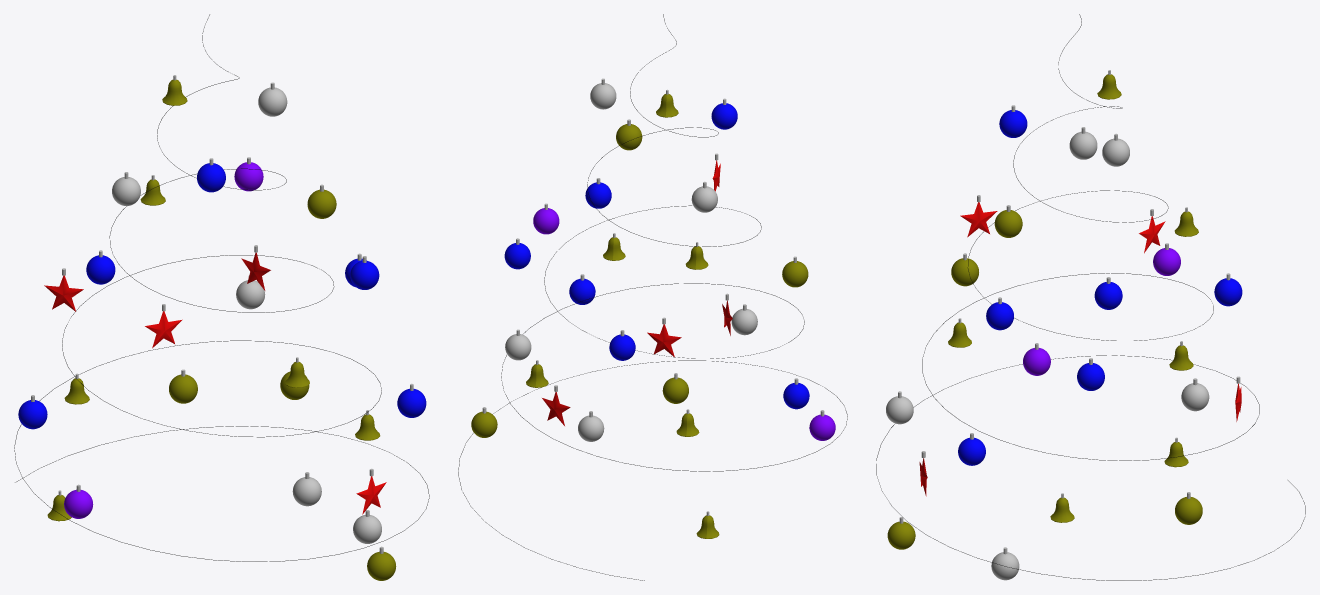
File: Ukrasheniya Elka_01.FBX
3 views of the same model, side by side, from view 1: azimuth 30°, elevation 25°; view 2: azimuth 150°, elevation 25°; view 3: azimuth 270°, elevation 25° (orthographic). The views are drawn at different scales.
Parts seen in each view (by area): view 1: Ukrasheniya Elka; view 2: Ukrasheniya Elka; view 3: Ukrasheniya Elka.
Boxes of the visible parts, x1,y1,x2,y2 form: Ukrasheniya Elka: (14, 14, 429, 580); Ukrasheniya Elka: (458, 14, 847, 580); Ukrasheniya Elka: (876, 14, 1305, 580).
Bounding box in the file's own units: 1.34 × 1.84 × 1.41.
